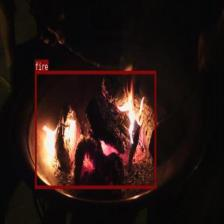fire: (35, 71, 155, 188)
